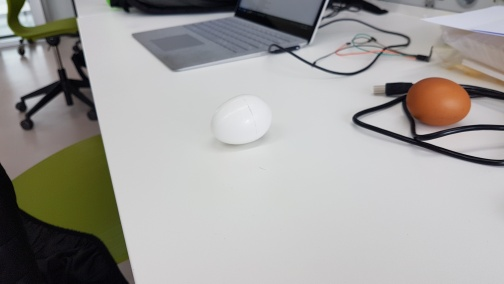egg: (404, 75, 476, 130), (207, 93, 272, 146)
